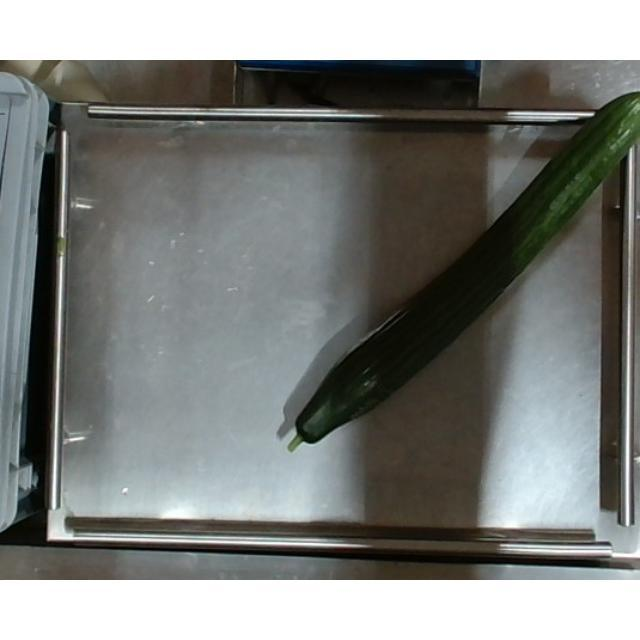cucumber: (286, 93, 640, 455)
